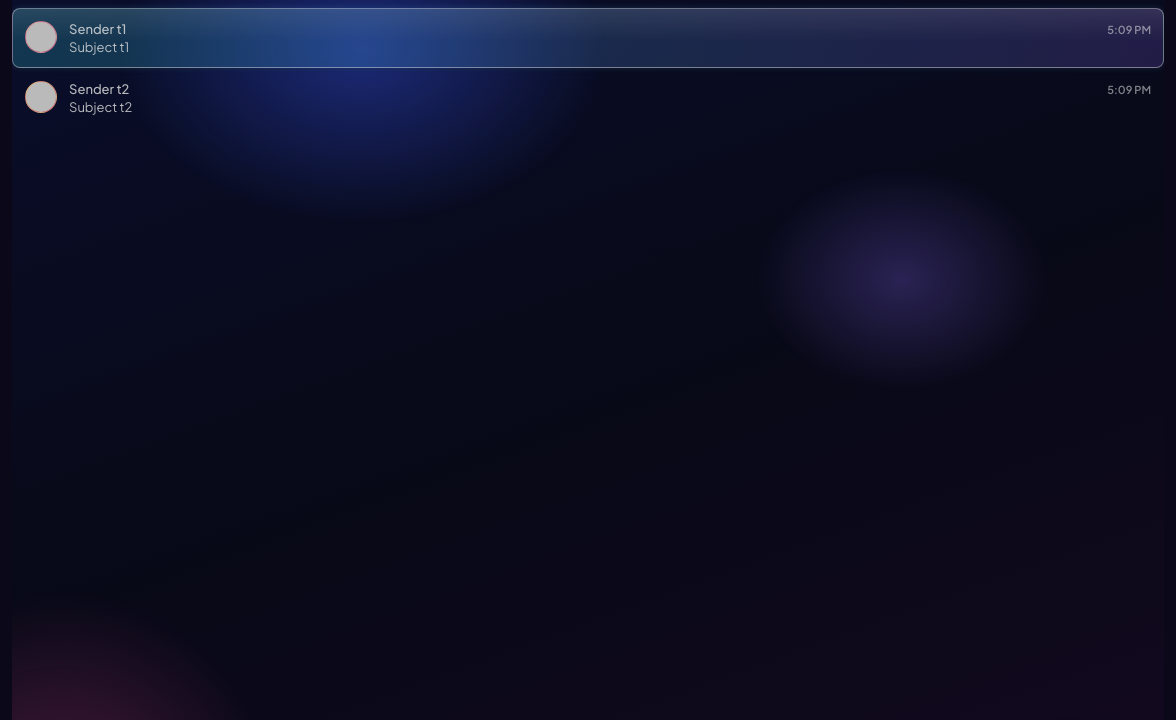
Scenario: ThreadList › auto-selects the first row and moves the highlight on click
Expected: the text "Subject t1" is shown, [69,39,129,55]
Click the button "ST Sender t2 5:09 PM Subject t2": (41,97) [12,68,1164,128]
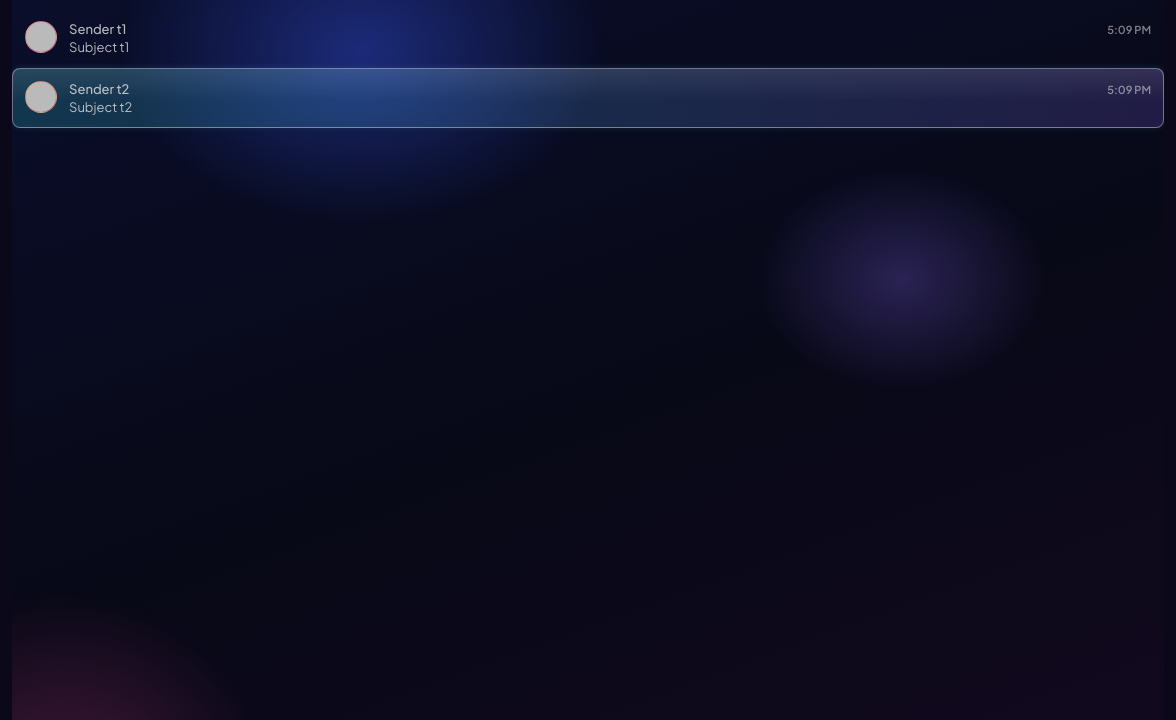
Expected: the button "ST Sender t2 5:09 PM Subject t2" has class "selected-lit", [12,68,1164,128]
Expected: the button "ST Sender t1 5:09 PM Subject t1" does not have class "selected-lit", [12,8,1164,68]
